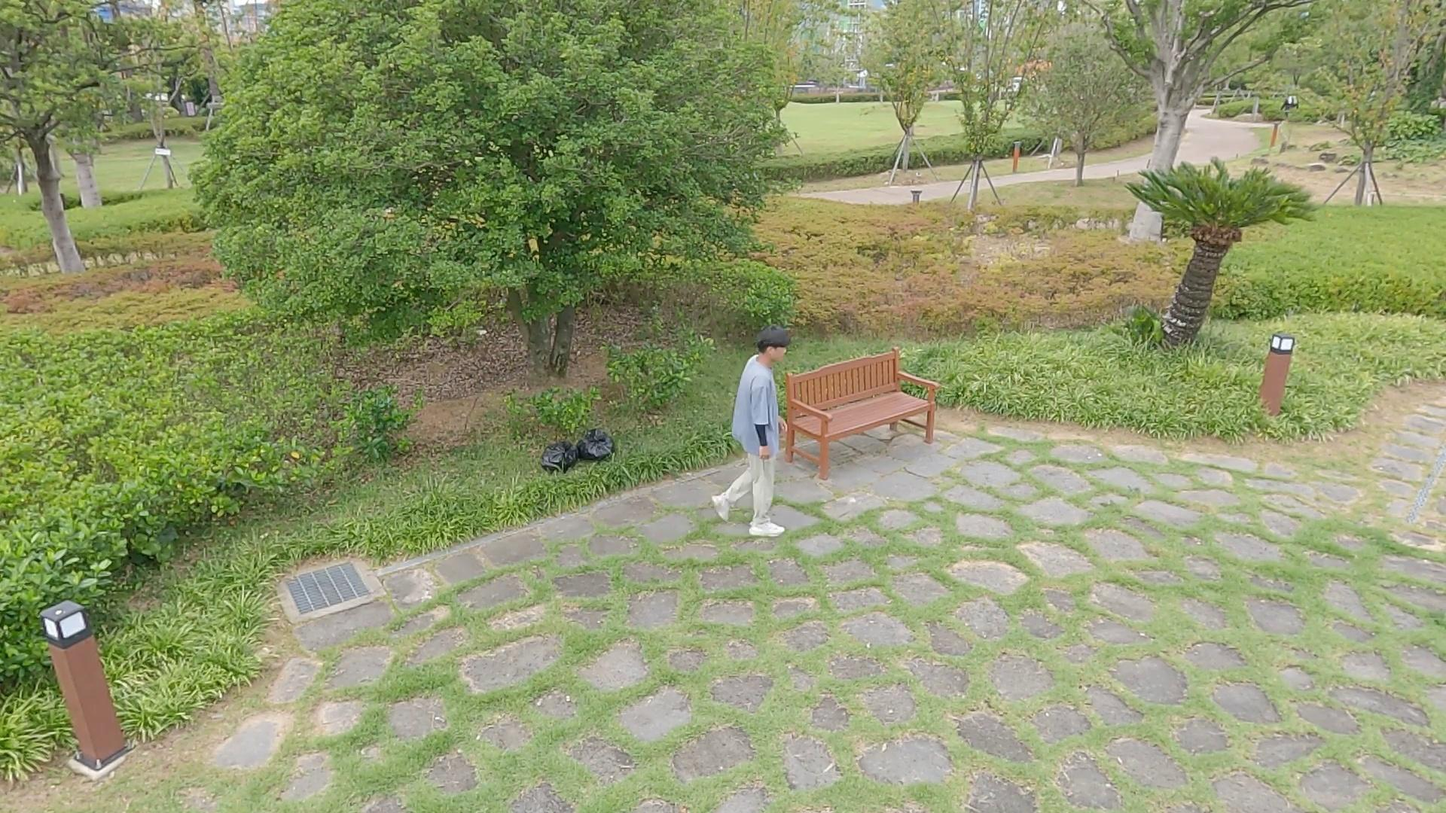person: (709, 323, 788, 539)
trash: (573, 424, 618, 462), (539, 435, 572, 472)
